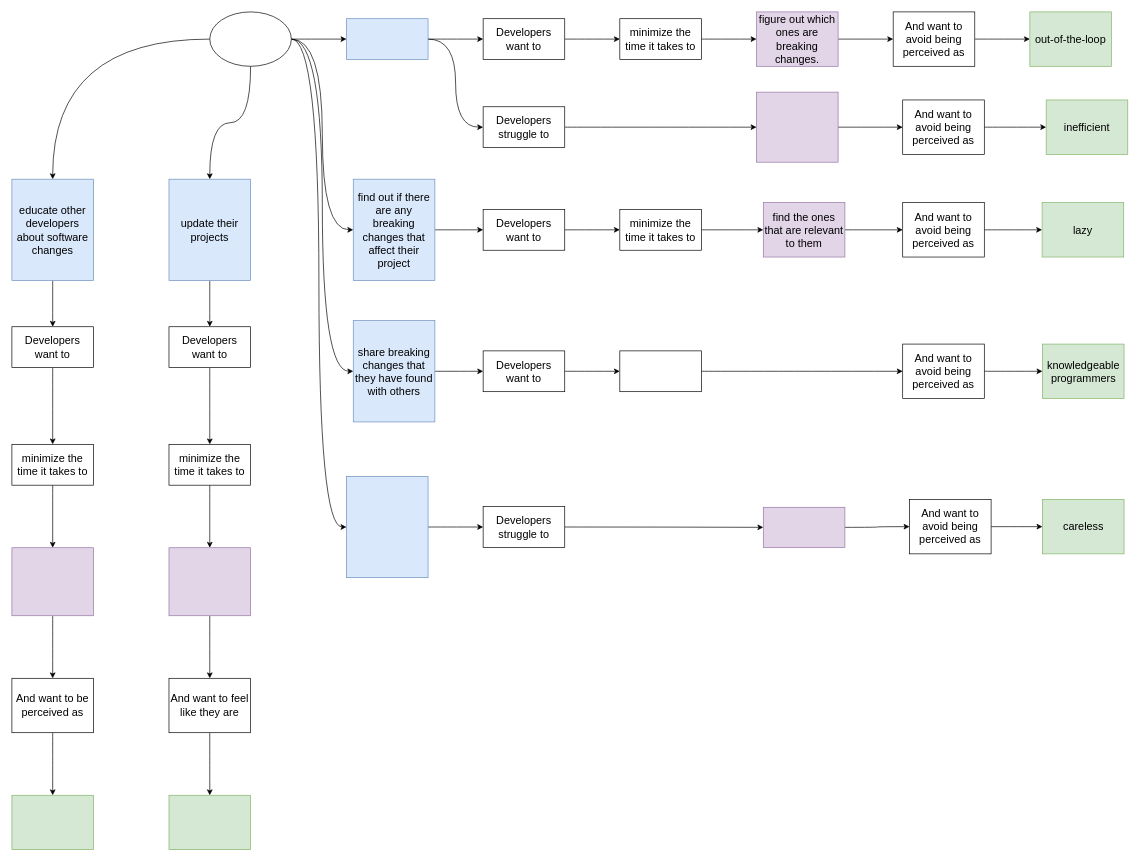
The diagram is 1140 pixels wide and 862 high, and some of its shapes have lost their labels. The box of each missing label's shape, as (x1, y1, x2, y2) in pixels:
figure out if there are any releases which will require migrations: (346, 476, 428, 578)
figure out if they need to follow migration guides: (168, 547, 251, 616)
find all of the important changes: (11, 547, 94, 616)
find all of the information that is relevant to them: (756, 91, 838, 162)
find migration guides easily: (763, 507, 845, 547)
knowledgeable about the projects they are using: (168, 795, 251, 850)
knowledgeable leaders: (11, 795, 94, 850)
learn about software releases: (346, 18, 428, 60)
minimize the amount of effort it takes to do so: (619, 350, 701, 392)
When trying to: (209, 11, 291, 66)
